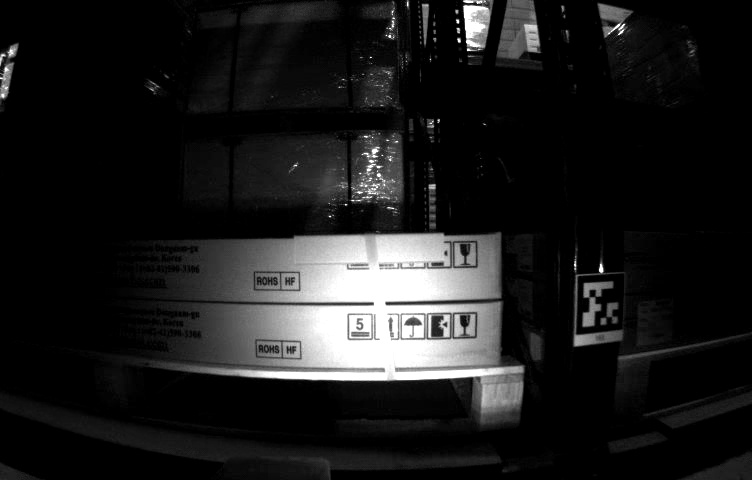True Barcode: (636, 298, 676, 342)
